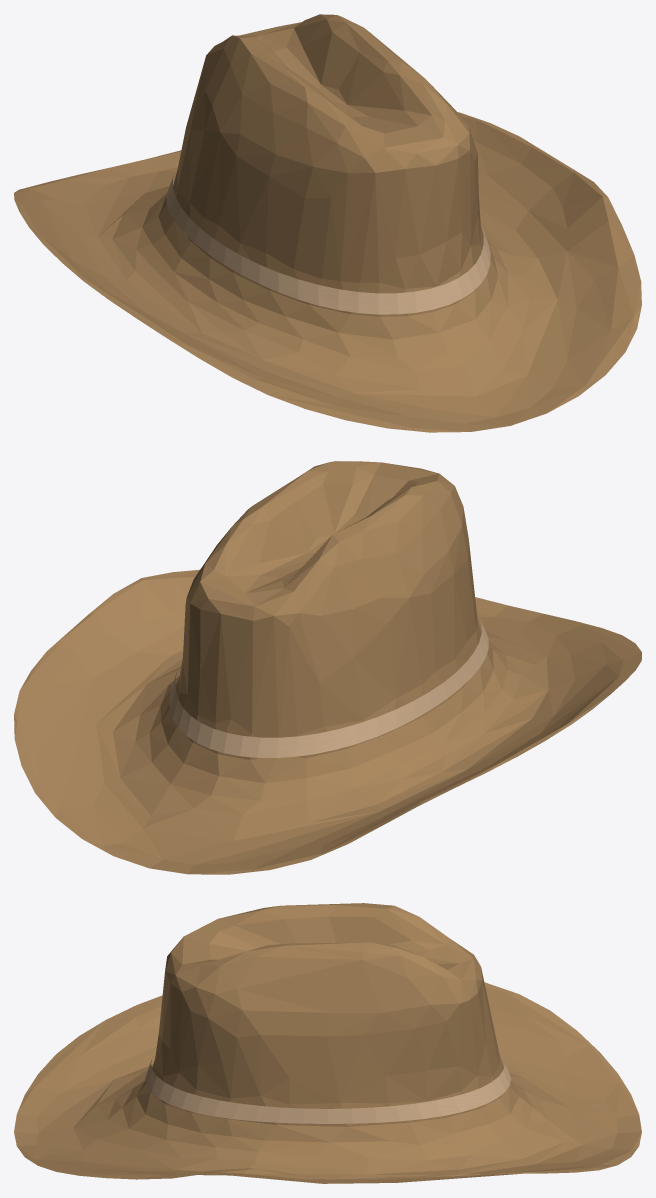
The model's file is aWzUlZtGLC0.glb.
3 views of the same model, one above another, from view 1: azimuth 30°, elevation 25°; view 2: azimuth 150°, elevation 25°; view 3: azimuth 270°, elevation 25° (orthographic). The views are drawn at different scales.
Visible parts, largest first — view 1: Hat, ring; view 2: Hat, ring; view 3: Hat, ring.
Part boxes in pixels (x1=…): Hat: x1=14, y1=14, x2=641, y2=432; ring: x1=166, y1=172, x2=490, y2=314; Hat: x1=14, y1=461, x2=641, y2=874; ring: x1=169, y1=617, x2=488, y2=757; Hat: x1=14, y1=903, x2=641, y2=1183; ring: x1=145, y1=1058, x2=511, y2=1123.
Bounding box in the file's own units: 2.11 × 1 × 2.72.
